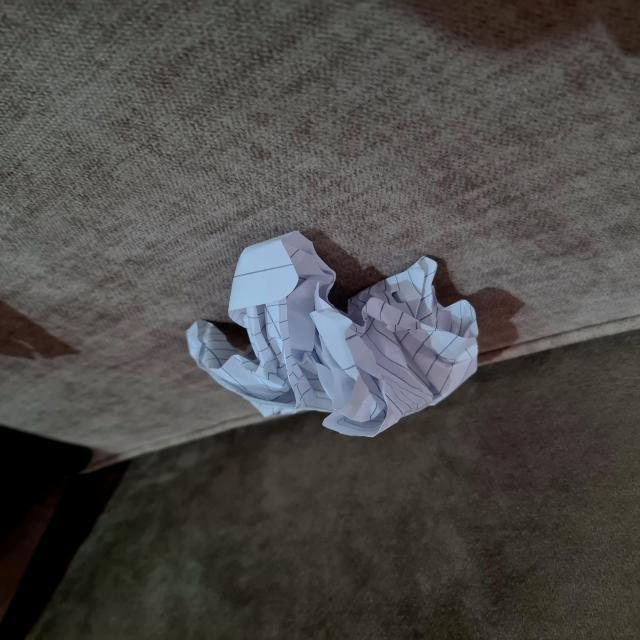Paper: (183, 224, 484, 452)
